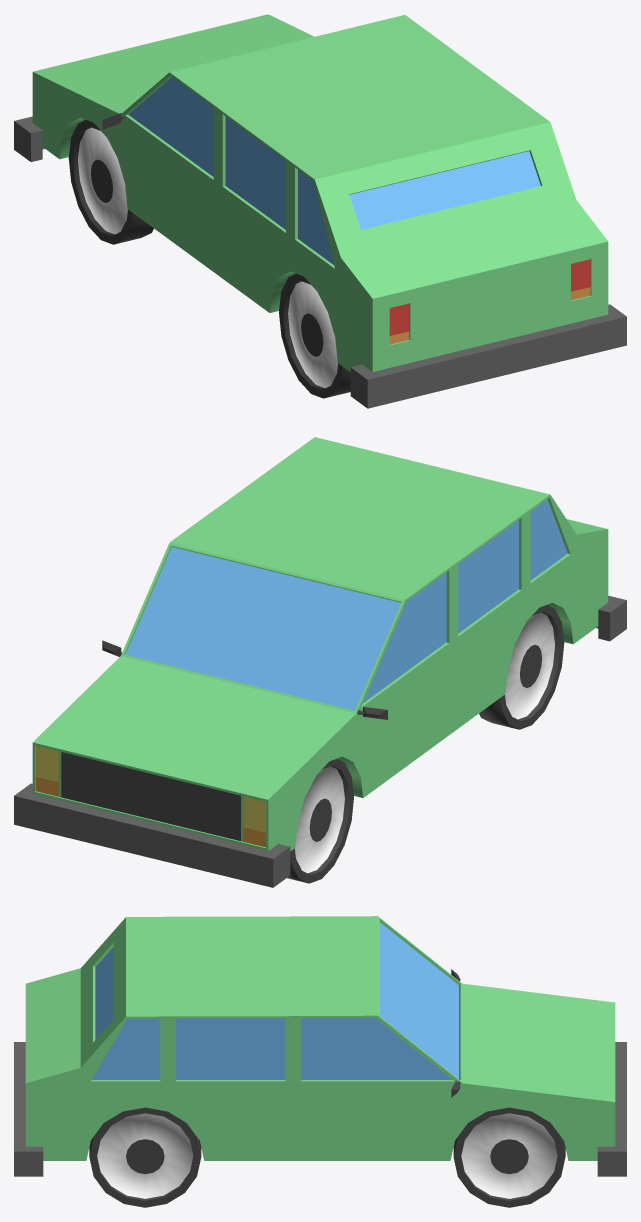
The model's file is Car Model.fbx.
3 views of the same model, one above another, from view 1: azimuth 30°, elevation 25°; view 2: azimuth 150°, elevation 25°; view 3: azimuth 270°, elevation 25° (orthographic). The views are drawn at different scales.
Parts seen in each view (by area): view 1: Car - Body, Car Wheel - Front Left, Car Wheel - Back Left; view 2: Car - Body, Car Wheel - Back Left, Car Wheel - Front Left; view 3: Car - Body, Car Wheel - Back Right, Car Wheel - Front Right.
Part boxes in pixels (x1,y1,x2,y2): Car - Body: (14, 14, 626, 408); Car Wheel - Front Left: (68, 120, 153, 244); Car Wheel - Back Left: (279, 273, 350, 398); Car - Body: (14, 437, 626, 887); Car Wheel - Back Left: (479, 605, 564, 729); Car Wheel - Front Left: (287, 758, 353, 883); Car - Body: (14, 916, 626, 1176); Car Wheel - Back Right: (89, 1107, 201, 1207); Car Wheel - Front Right: (453, 1107, 565, 1207).
Size of the model in its own units: 485 by 365 by 1040.
